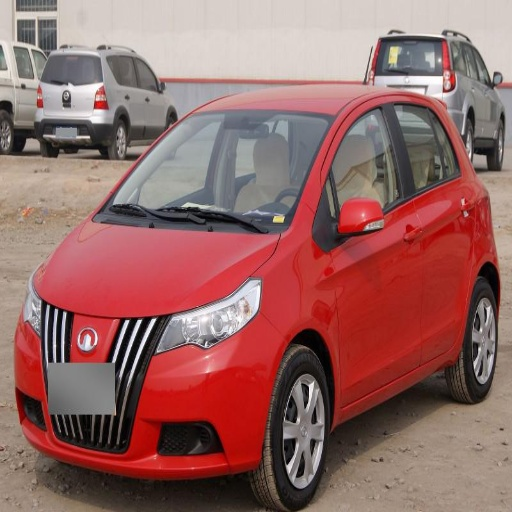back_glass: (45, 55, 100, 82)
front_bumper: (17, 302, 285, 478)
front_glass: (94, 114, 332, 233)
front_left_door: (317, 98, 421, 403)
